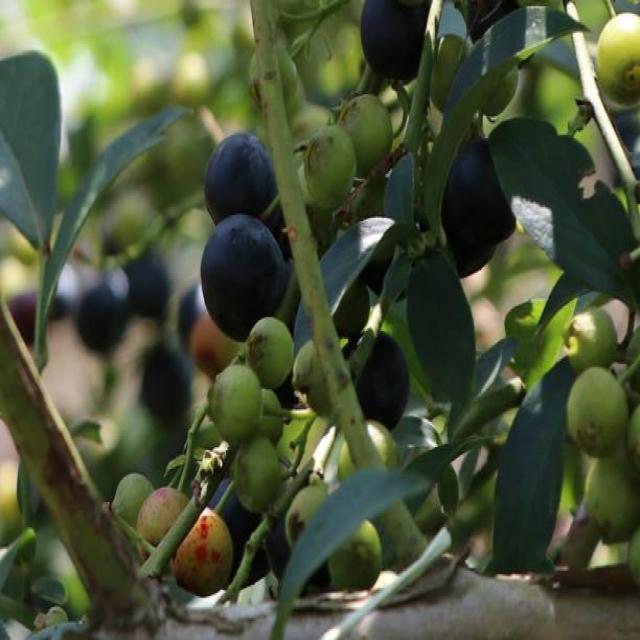blueberry: (197, 213, 286, 336), (443, 127, 522, 246), (200, 127, 277, 217), (351, 328, 412, 430), (358, 0, 424, 86), (74, 268, 131, 352), (132, 345, 192, 420)
blueberry-halfripe: (172, 508, 233, 596), (136, 486, 194, 570)
blueberry-unripe: (562, 366, 632, 461), (583, 455, 639, 552), (301, 124, 357, 212), (210, 359, 265, 447), (592, 5, 639, 106), (326, 514, 382, 590), (340, 88, 395, 165), (246, 39, 300, 115), (339, 418, 398, 487), (565, 302, 618, 374), (231, 436, 277, 513), (246, 312, 293, 386), (286, 480, 328, 552), (110, 471, 152, 527)
